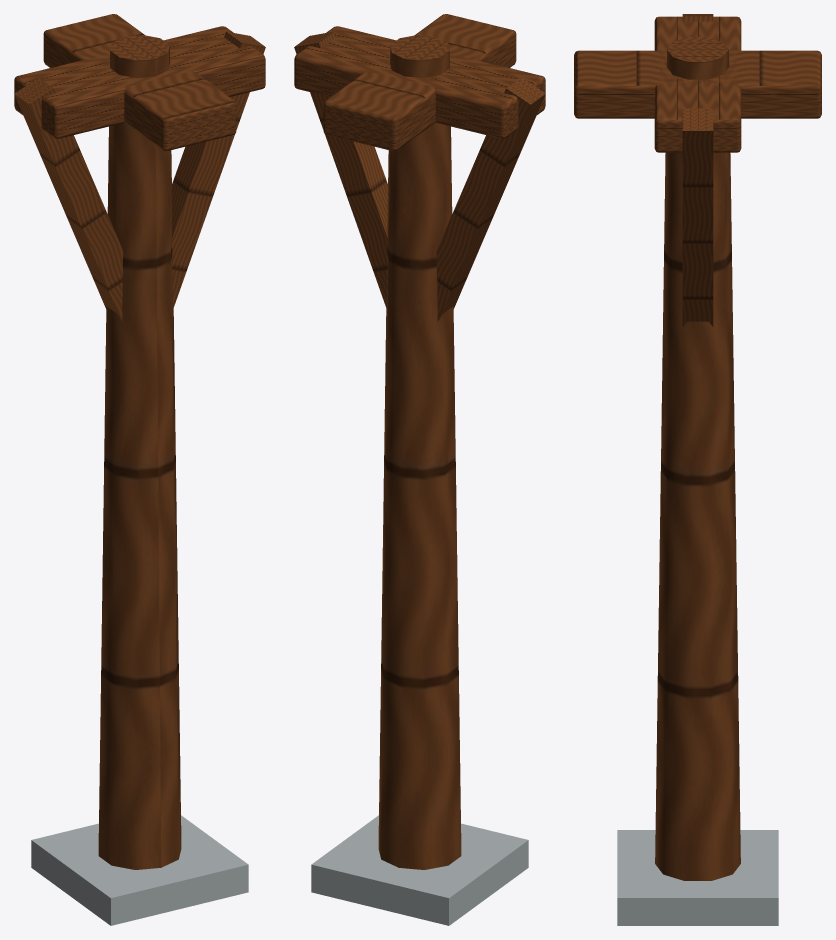
The model's file is modular-survival-base-builder-cross-head-post-6a5ce55c__24219.glb.
3 renders of one model, left to right at view 1: azimuth 30°, elevation 25°; view 2: azimuth 150°, elevation 25°; view 3: azimuth 270°, elevation 25°, orthographic.
Parts seen in each view (by area): view 1: cross-head-post; view 2: cross-head-post; view 3: cross-head-post.
Part boxes in pixels (left/top/right/bottom): cross-head-post: left=14, top=14, right=265, bottom=925; cross-head-post: left=294, top=14, right=545, bottom=925; cross-head-post: left=574, top=14, right=821, bottom=925.
Bounding box in the file's own units: 0.7141 × 2.4 × 0.6399.
Materials: 2 (1 with a texture image).
